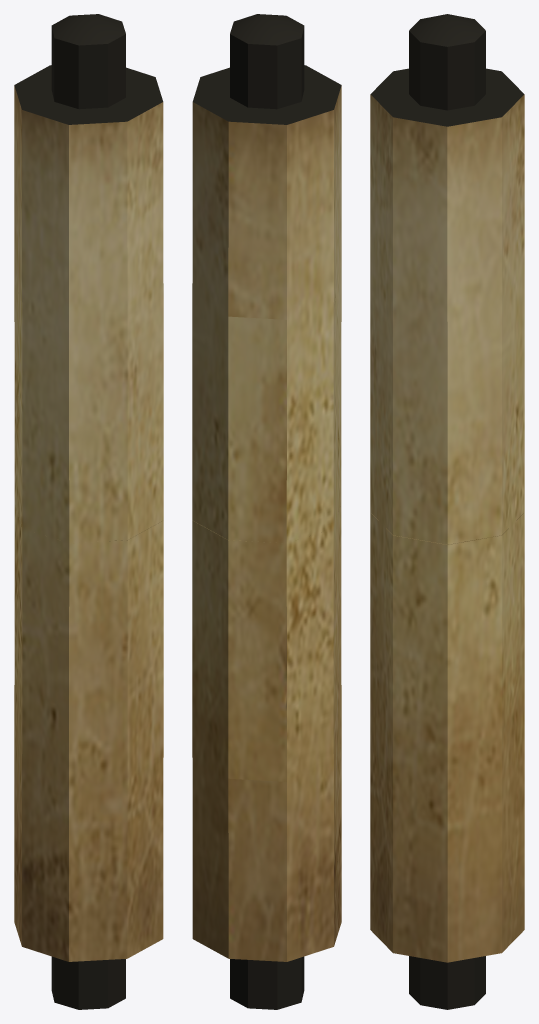
File: book.fbx
3 renders of one model, left to right at view 1: azimuth 30°, elevation 25°; view 2: azimuth 150°, elevation 25°; view 3: azimuth 270°, elevation 25°, orthographic.
Visible parts, largest first — view 1: pCylinder3; view 2: pCylinder3; view 3: pCylinder3.
Part boxes in pixels (x1,y1,x2,y2): pCylinder3: (14, 14, 163, 1009); pCylinder3: (192, 14, 341, 1009); pCylinder3: (370, 14, 524, 1009).
Bounding box in the file's own units: 6.91 × 48.99 × 6.89.
Materials: 1 (1 with a texture image).
